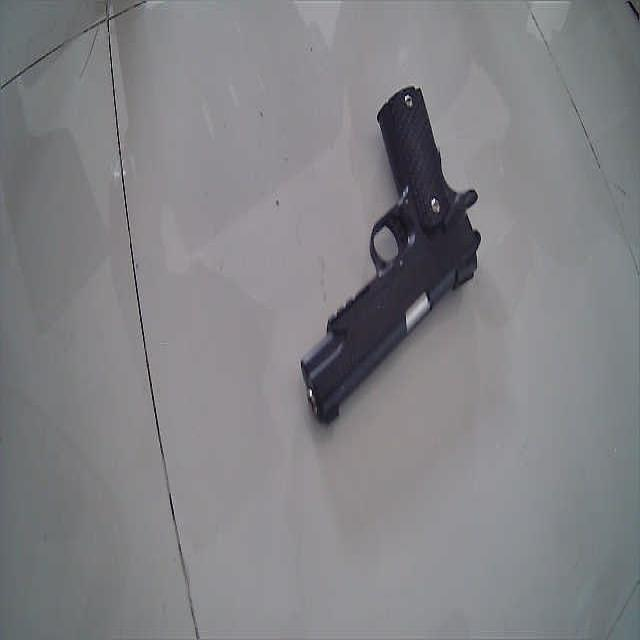pistol: (301, 89, 484, 428)
